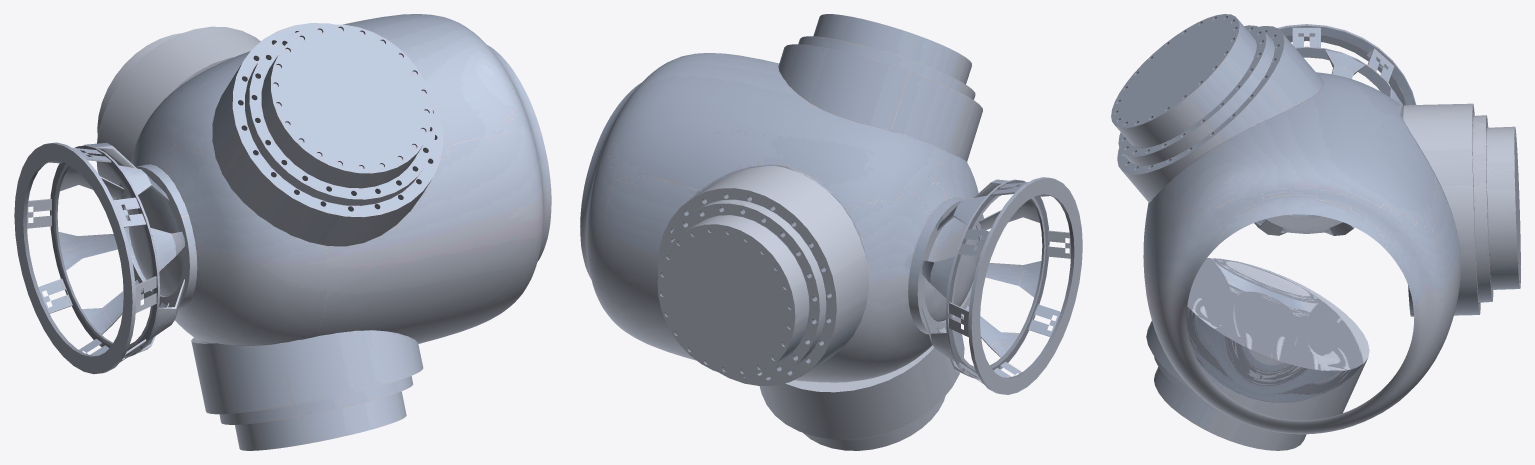
The model's file is toubu.glb.
3 views of the same model, side by side, from view 1: azimuth 30°, elevation 25°; view 2: azimuth 150°, elevation 25°; view 3: azimuth 270°, elevation 25° (orthographic). The views are drawn at different scales.
Visible parts, largest first — view 1: 空白, 风叶_1; view 2: 空白, 风叶_1; view 3: 空白, 风叶_1.
Part boxes in pixels (x1,y1,x2,y2): 空白: [14, 23, 442, 450]; 风叶_1: [128, 14, 551, 345]; 空白: [657, 14, 1082, 450]; 风叶_1: [580, 53, 978, 382]; 空白: [1111, 14, 1520, 450]; 风叶_1: [1143, 72, 1461, 434].
Size of the model in its own units: 11.02 by 10.83 by 9.83.
4 materials, 4 textured.
